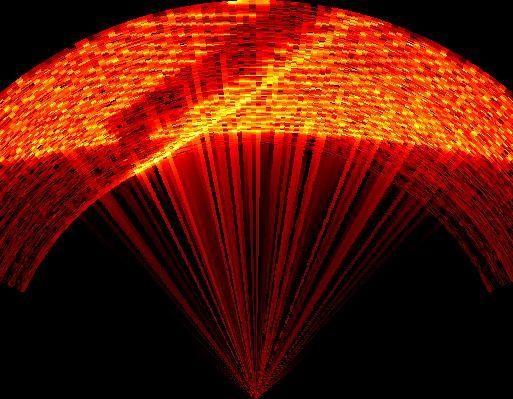pipe: (105, 2, 334, 152)
